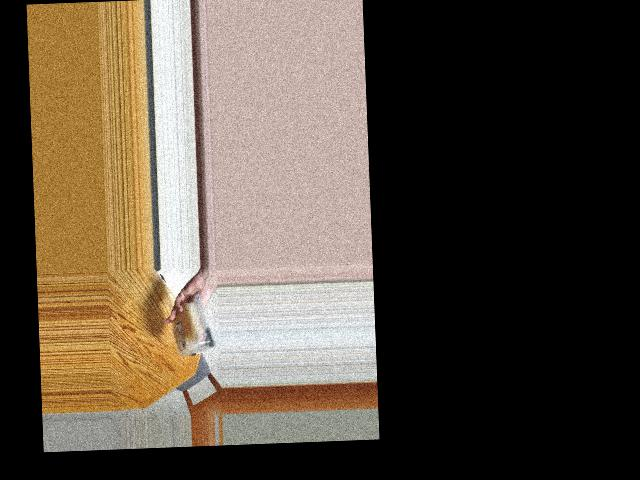cheese: (169, 299, 214, 359)
